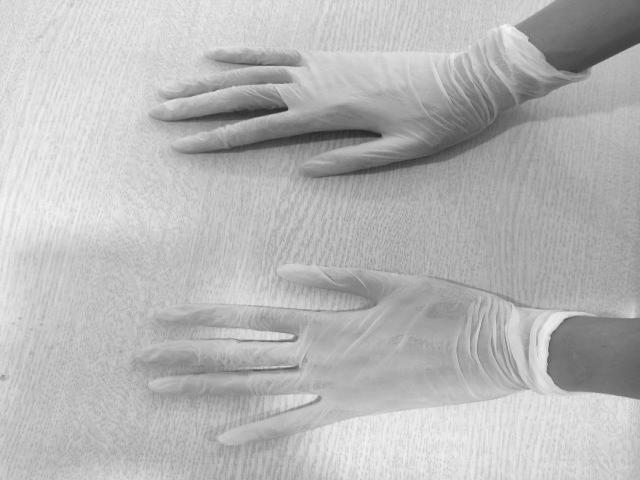gloved: (140, 262, 507, 446), (157, 46, 497, 174)
